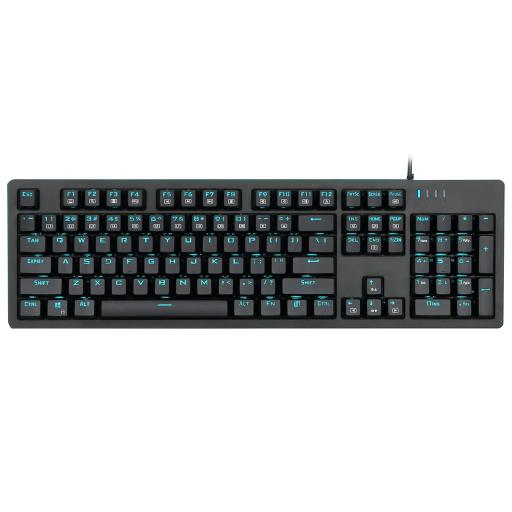keyboard: (8, 164, 504, 328)
